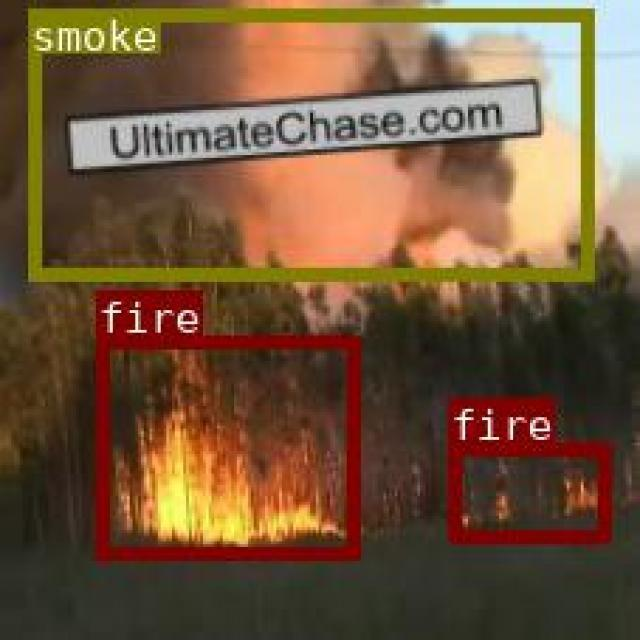fire: (96, 333, 357, 558), (448, 442, 609, 539)
smoke: (25, 8, 592, 278)
